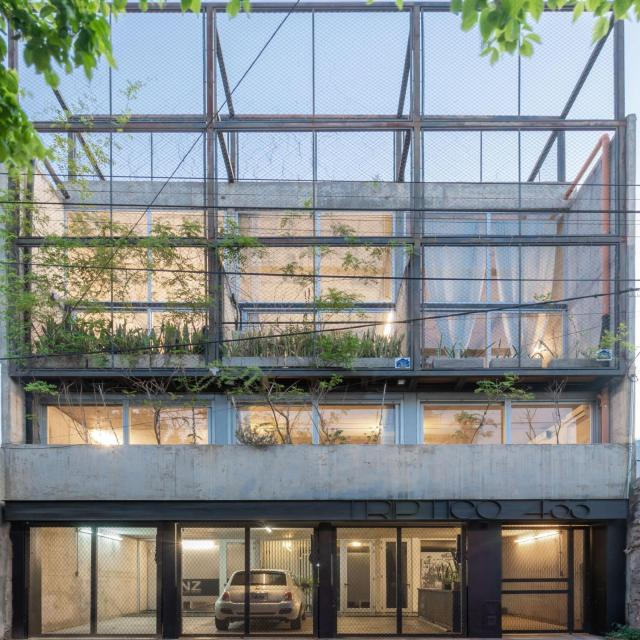door: (330, 523, 464, 637)
window: (429, 243, 567, 354), (242, 245, 392, 338), (70, 245, 203, 327), (425, 405, 596, 442), (44, 406, 212, 442), (242, 406, 397, 443), (238, 215, 394, 235), (426, 212, 570, 233), (69, 210, 207, 231)
